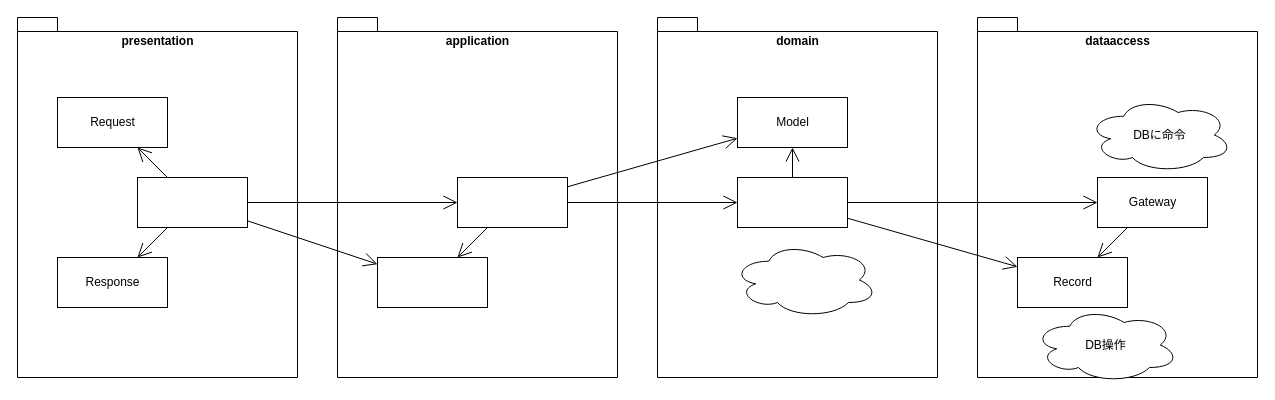
This 1275x400 diagram has some shape labels left out. Each missing label, with the centre of its shape:
DB操作を呼び出す: the point at 805,280
Output: the point at 432,282
Repository: the point at 792,202
Router: the point at 192,202
Service: the point at 512,202
